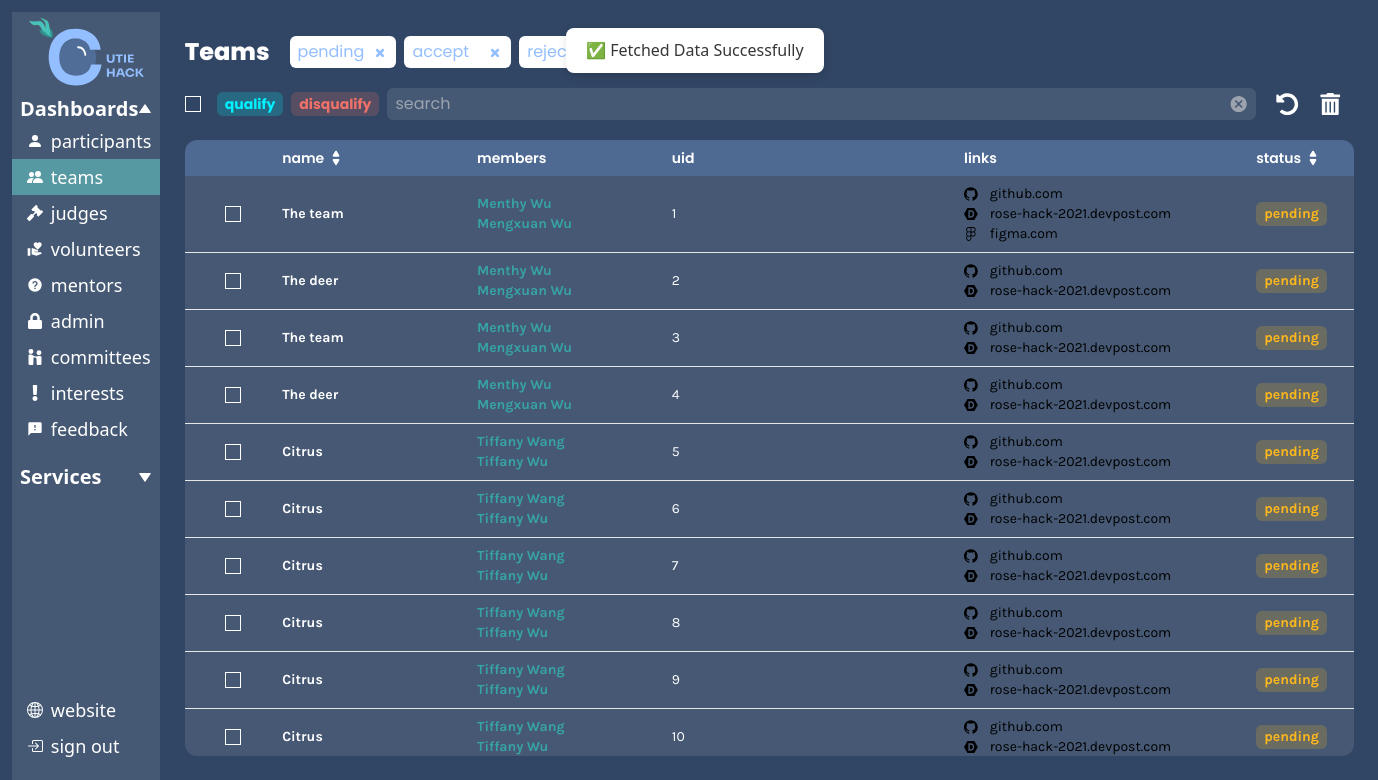
Test: Team Sort › Sort Name Up
Click the icon with test id "name-sort-up" at (336, 154), box [332,150,340,158]
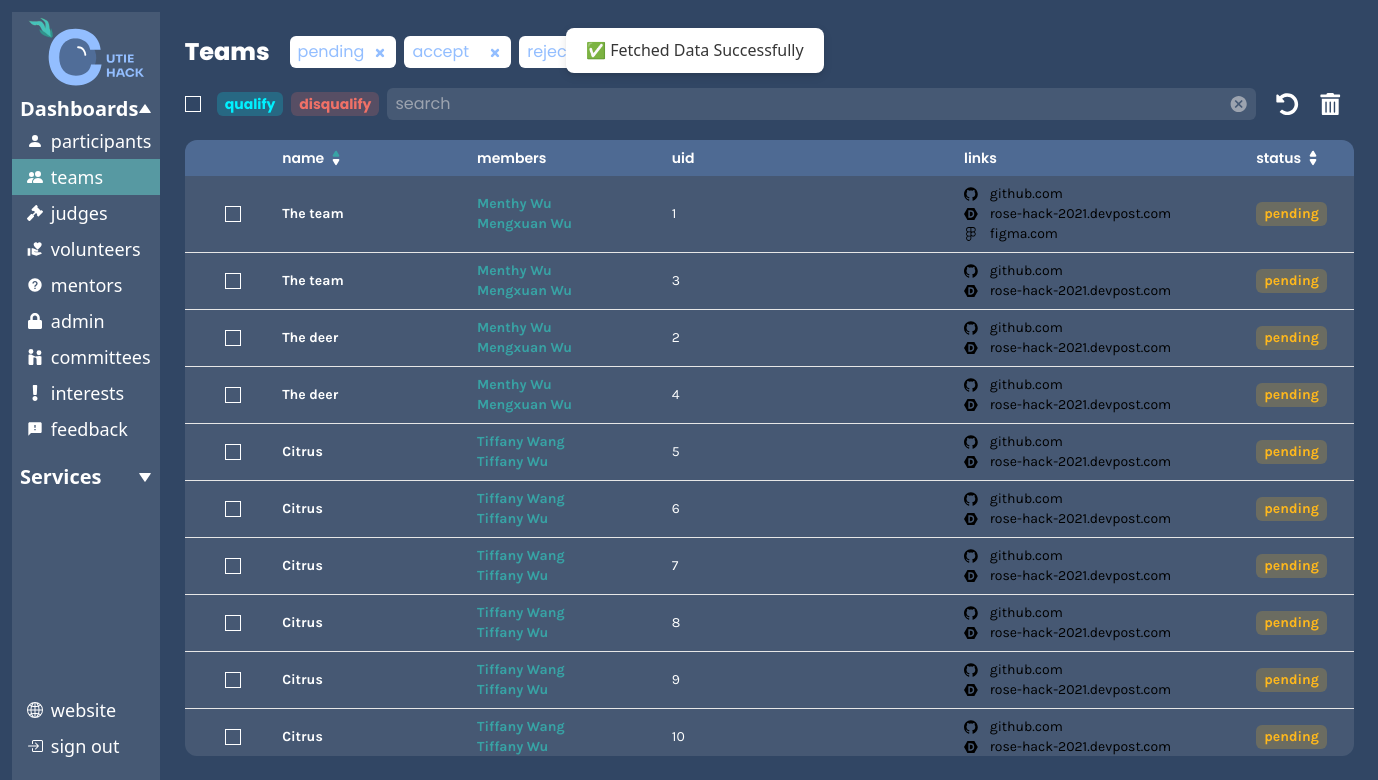
Check: the 1st text with test id "name" reads "The team", box [282,204,344,224]
Check: the 2nd text with test id "name" reads "The team", box [282,271,344,291]
Check: the 1st text with test id "name" reads "The deer", box [282,328,338,348]
